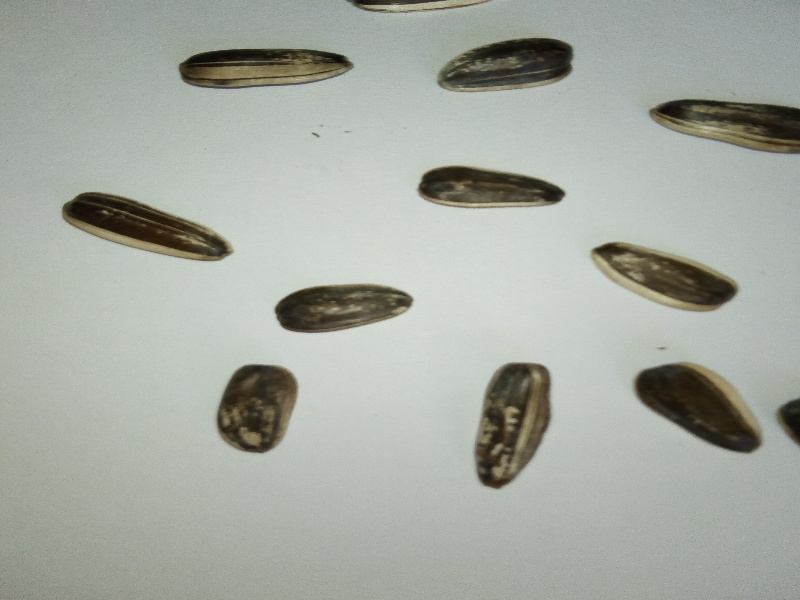girasol: (619, 355, 771, 464), (49, 180, 237, 268), (588, 238, 743, 324), (467, 356, 561, 493), (172, 40, 365, 102), (644, 90, 800, 164), (269, 275, 422, 341), (435, 33, 579, 103), (412, 158, 576, 215), (210, 357, 305, 455)
